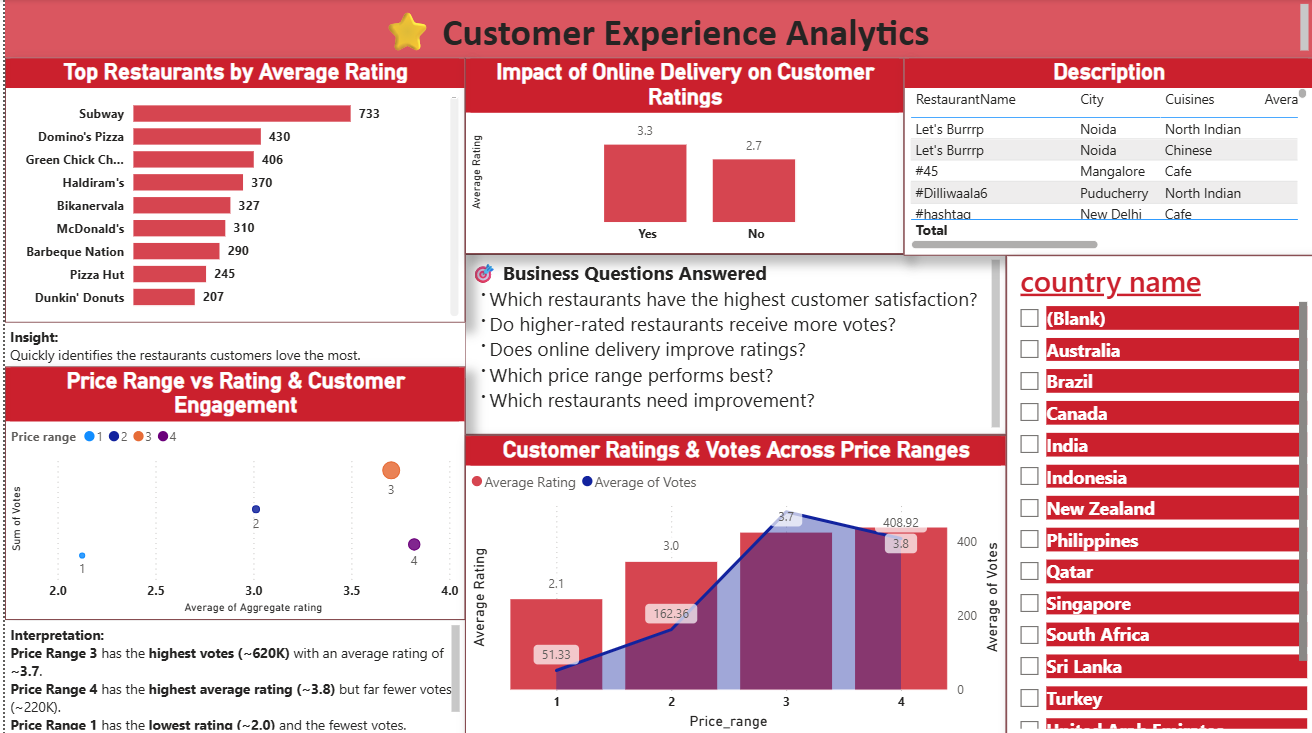

Layout of this report page (visuals, bound fields, positions):
{"tool":"powerbi","page":{"name":" Customer Experience Analytics","canvas":[1280,720],"ordinal":1},"visuals":[{"type":"textbox","box":[0,0,1280.3,57.6],"z":0},{"type":"textbox","box":[450.1,249.7,529.7,177],"z":1000},{"type":"barChart","title":"Top Restaurants by Average Rating","fields":{"Category":["Dataset.Restaurant Name"],"Y":["Sum(Dataset.Aggregate rating)"]},"box":[0,57.6,450.1,259.3],"z":2000},{"type":"textbox","box":[0,317,450.1,53.5],"z":3000},{"type":"scatterChart","title":"Price Range vs Rating & Customer Engagement","fields":{"X":["Avg(Dataset.Aggregate rating)"],"Y":["Sum(Dataset.Votes)"],"Series":["Dataset.Price range"],"Size":["Avg(Dataset.Average Cost for two)"]},"box":[0,359.5,450.1,248.4],"z":4000},{"type":"textbox","box":[0,607.9,450.1,112.5],"z":5000},{"type":"clusteredColumnChart","title":"Impact of Online Delivery on Customer Ratings","fields":{"Category":["Dataset.Has Online delivery"],"Y":["Dataset.Average Rating"]},"box":[450.1,57.6,429.5,192.1],"z":6000},{"type":"lineClusteredColumnComboChart","title":"Customer Ratings & Votes Across Price Ranges","fields":{"Y":["Dataset.Average Rating"],"Category":["Sheet1.Price_range"],"Y2":["Avg(Dataset.Votes)"]},"box":[450.1,426.8,529.7,293.7],"z":7000},{"type":"tableEx","title":"Description","fields":{"Values":["Sheet1.RestaurantName","Dataset.City","Dataset.Cuisines","Dataset.Average Rating","CountNonNull(Dataset.Votes)","Dataset.Has Online delivery","Dataset.Has Table booking"]},"box":[879.6,57.6,400.7,193.5],"z":8000},{"type":"slicer","fields":{"Values":["Sheet2.country name"]},"box":[979.8,251.1,300.5,469.3],"z":9000}]}

Visuals, with their boxes in screenshot pixels (x1, y1, x2, y2), scaled from the page's 1280x720 canvas onto the 1312x733 screenshot:
textbox: <box>0,0,1311,59</box>
textbox: <box>461,254,1004,434</box>
"Top Restaurants by Average Rating" barChart: <box>0,59,461,323</box>
textbox: <box>0,323,461,377</box>
"Price Range vs Rating & Customer Engagement" scatterChart: <box>0,366,461,619</box>
textbox: <box>0,619,461,732</box>
"Impact of Online Delivery on Customer Ratings" clusteredColumnChart: <box>461,59,902,254</box>
"Customer Ratings & Votes Across Price Ranges" lineClusteredColumnComboChart: <box>461,435,1004,732</box>
"Description" tableEx: <box>902,59,1311,256</box>
slicer - Sheet2.country name: <box>1004,256,1311,732</box>
